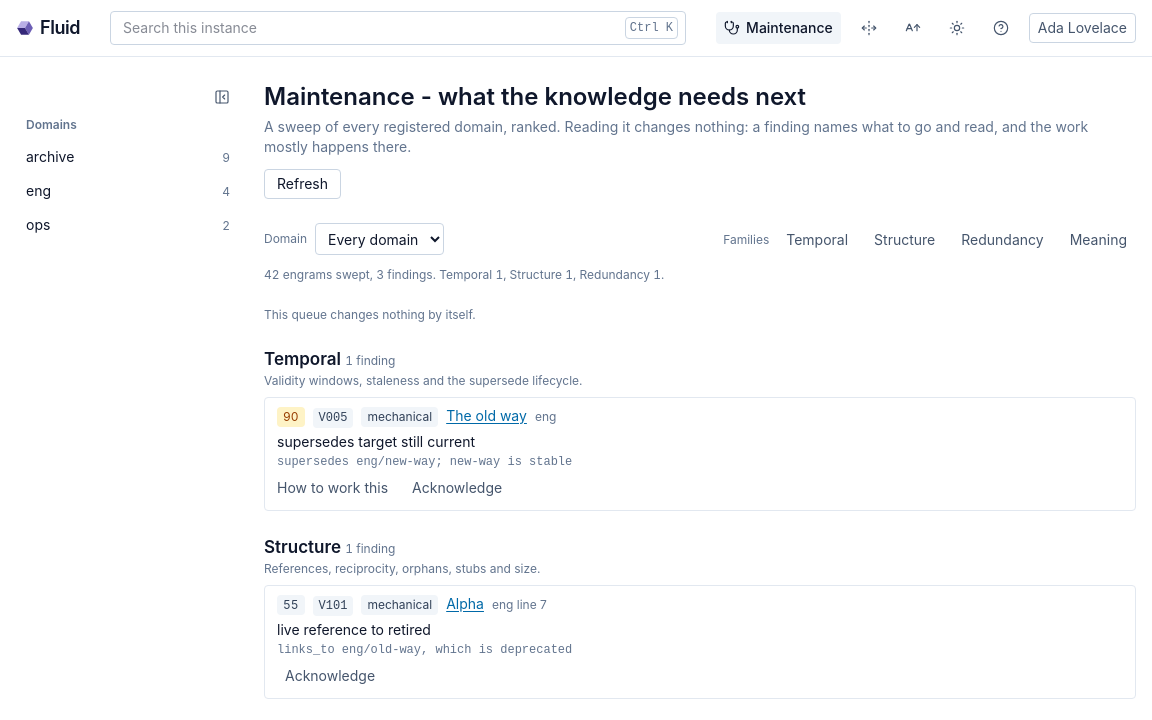
Scenario: the maintenance screen › heads the instruction with the catalog's own summary of the rule
expect the heading "Maintenance - what the knowledge needs next" is shown: met, box [264, 82, 806, 111]
expect the text "supersedes target still current" is shown: met, box [277, 433, 475, 450]
Click the button "How to work this" at (333, 488), box [269, 474, 396, 502]
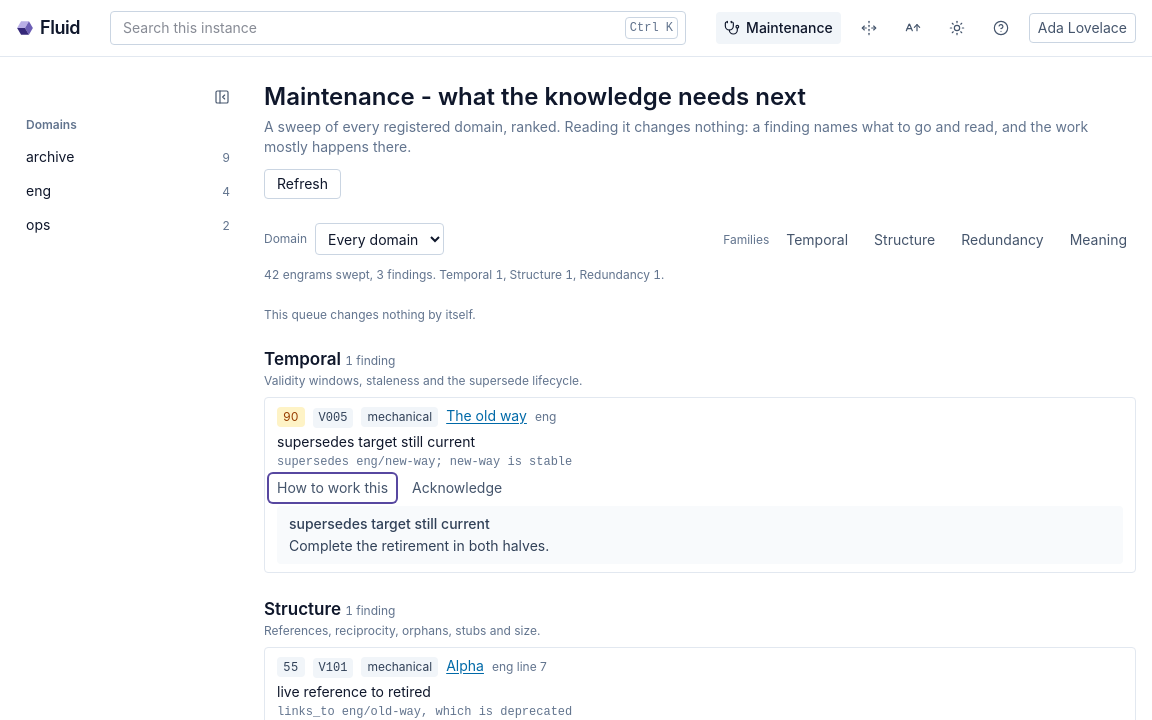
expect the 2nd text "supersedes target still current" is shown: met, box [289, 515, 490, 532]
expect the text "Complete the retirement in both halves." is shown: met, box [289, 537, 549, 554]
